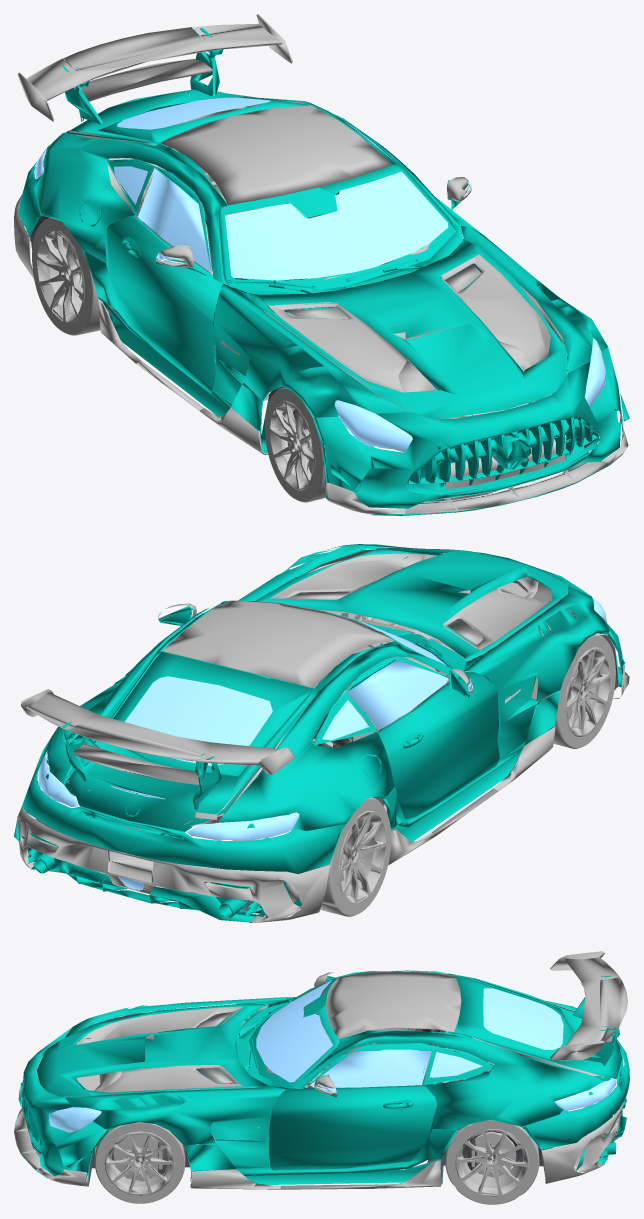
The model's file is mercedes_amg_gt.glb.
3 renders of one model, top to bottom at view 1: azimuth 30°, elevation 25°; view 2: azimuth 150°, elevation 25°; view 3: azimuth 270°, elevation 25°, orthographic. The views are drawn at different scales.
Visible parts, largest first — view 1: merColoured_Geo_lodA_Coloured_Geo_lodA_MercedesAMG_GTBlackSe, merBadge_Geo_lodA_Badge_Geo_lodA_MercedesAMG_GTBlackSeriesRe, merWindowInside_Geo_lodA_WindowInside_Geo_lodA_MercedesAMG_G, merBase_Geo_lodA_Base_Geo_lodA_MercedesAMG_GTBlackSeriesRewa; view 2: merColoured_Geo_lodA_Coloured_Geo_lodA_MercedesAMG_GTBlackSe, merBadge_Geo_lodA_Badge_Geo_lodA_MercedesAMG_GTBlackSeriesRe, merWindowInside_Geo_lodA_WindowInside_Geo_lodA_MercedesAMG_G; view 3: merColoured_Geo_lodA_Coloured_Geo_lodA_MercedesAMG_GTBlackSe, merBadge_Geo_lodA_Badge_Geo_lodA_MercedesAMG_GTBlackSeriesRe, merWindowInside_Geo_lodA_WindowInside_Geo_lodA_MercedesAMG_G, merBase_Geo_lodA_Base_Geo_lodA_MercedesAMG_GTBlackSeriesRewa, merInterior_Geo_lodA_Interior_Geo_lodA_MercedesAMG_GTBlackSe.
Part boxes in pixels (box(x1,y1,x2,y2)): merColoured_Geo_lodA_Coloured_Geo_lodA_MercedesAMG_GTBlackSe: box(18, 28, 629, 515); merBadge_Geo_lodA_Badge_Geo_lodA_MercedesAMG_GTBlackSeriesRe: box(14, 14, 628, 514); merWindowInside_Geo_lodA_WindowInside_Geo_lodA_MercedesAMG_G: box(35, 97, 605, 452); merBase_Geo_lodA_Base_Geo_lodA_MercedesAMG_GTBlackSeriesRewa: box(28, 105, 595, 502); merColoured_Geo_lodA_Coloured_Geo_lodA_MercedesAMG_GTBlackSe: box(14, 544, 624, 922); merBadge_Geo_lodA_Badge_Geo_lodA_MercedesAMG_GTBlackSeriesRe: box(18, 548, 629, 922); merWindowInside_Geo_lodA_WindowInside_Geo_lodA_MercedesAMG_G: box(30, 597, 606, 890); merColoured_Geo_lodA_Coloured_Geo_lodA_MercedesAMG_GTBlackSe: box(18, 970, 629, 1186); merBadge_Geo_lodA_Badge_Geo_lodA_MercedesAMG_GTBlackSeriesRe: box(14, 951, 627, 1204); merWindowInside_Geo_lodA_WindowInside_Geo_lodA_MercedesAMG_G: box(48, 973, 616, 1138); merBase_Geo_lodA_Base_Geo_lodA_MercedesAMG_GTBlackSeriesRewa: box(39, 1002, 552, 1185); merInterior_Geo_lodA_Interior_Geo_lodA_MercedesAMG_GTBlackSe: box(158, 1027, 477, 1174).
Size of the model in its own units: 2.1 by 1.3 by 4.65.
